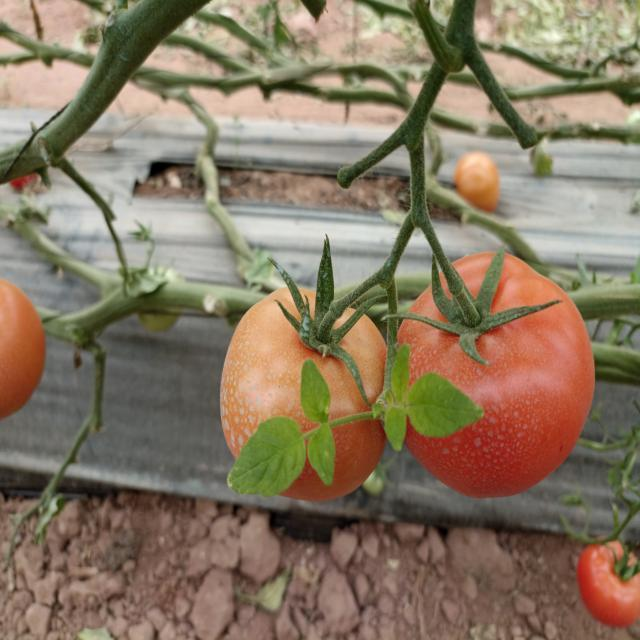Ripe Tomato: (396, 254, 596, 498), (215, 280, 396, 498), (0, 268, 44, 426), (578, 529, 640, 621), (453, 145, 510, 224)
